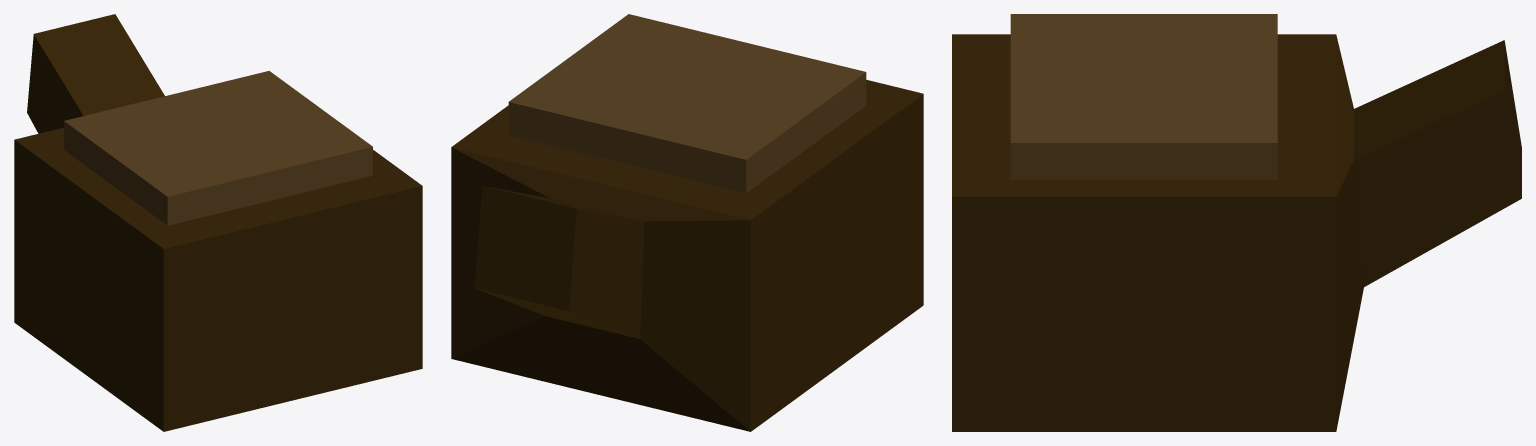
The model's file is TreeStump.fbx.
The picture shows the model from 3 angles, left to right: view 1: azimuth 30°, elevation 25°; view 2: azimuth 150°, elevation 25°; view 3: azimuth 270°, elevation 25°; orthographic projection. The views are drawn at different scales.
Visible parts, largest first — view 1: TreeStump; view 2: TreeStump; view 3: TreeStump.
Part boxes in pixels (<box>): TreeStump: <box>14,14,422,431</box>; TreeStump: <box>451,14,923,431</box>; TreeStump: <box>952,14,1521,431</box>.
Bounding box in the file's own units: 69.26 × 56.26 × 103.
